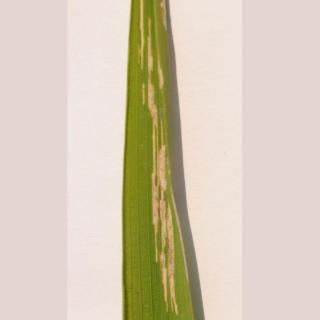Hawar-Daun: (142, 119, 186, 295), (133, 3, 167, 113)
